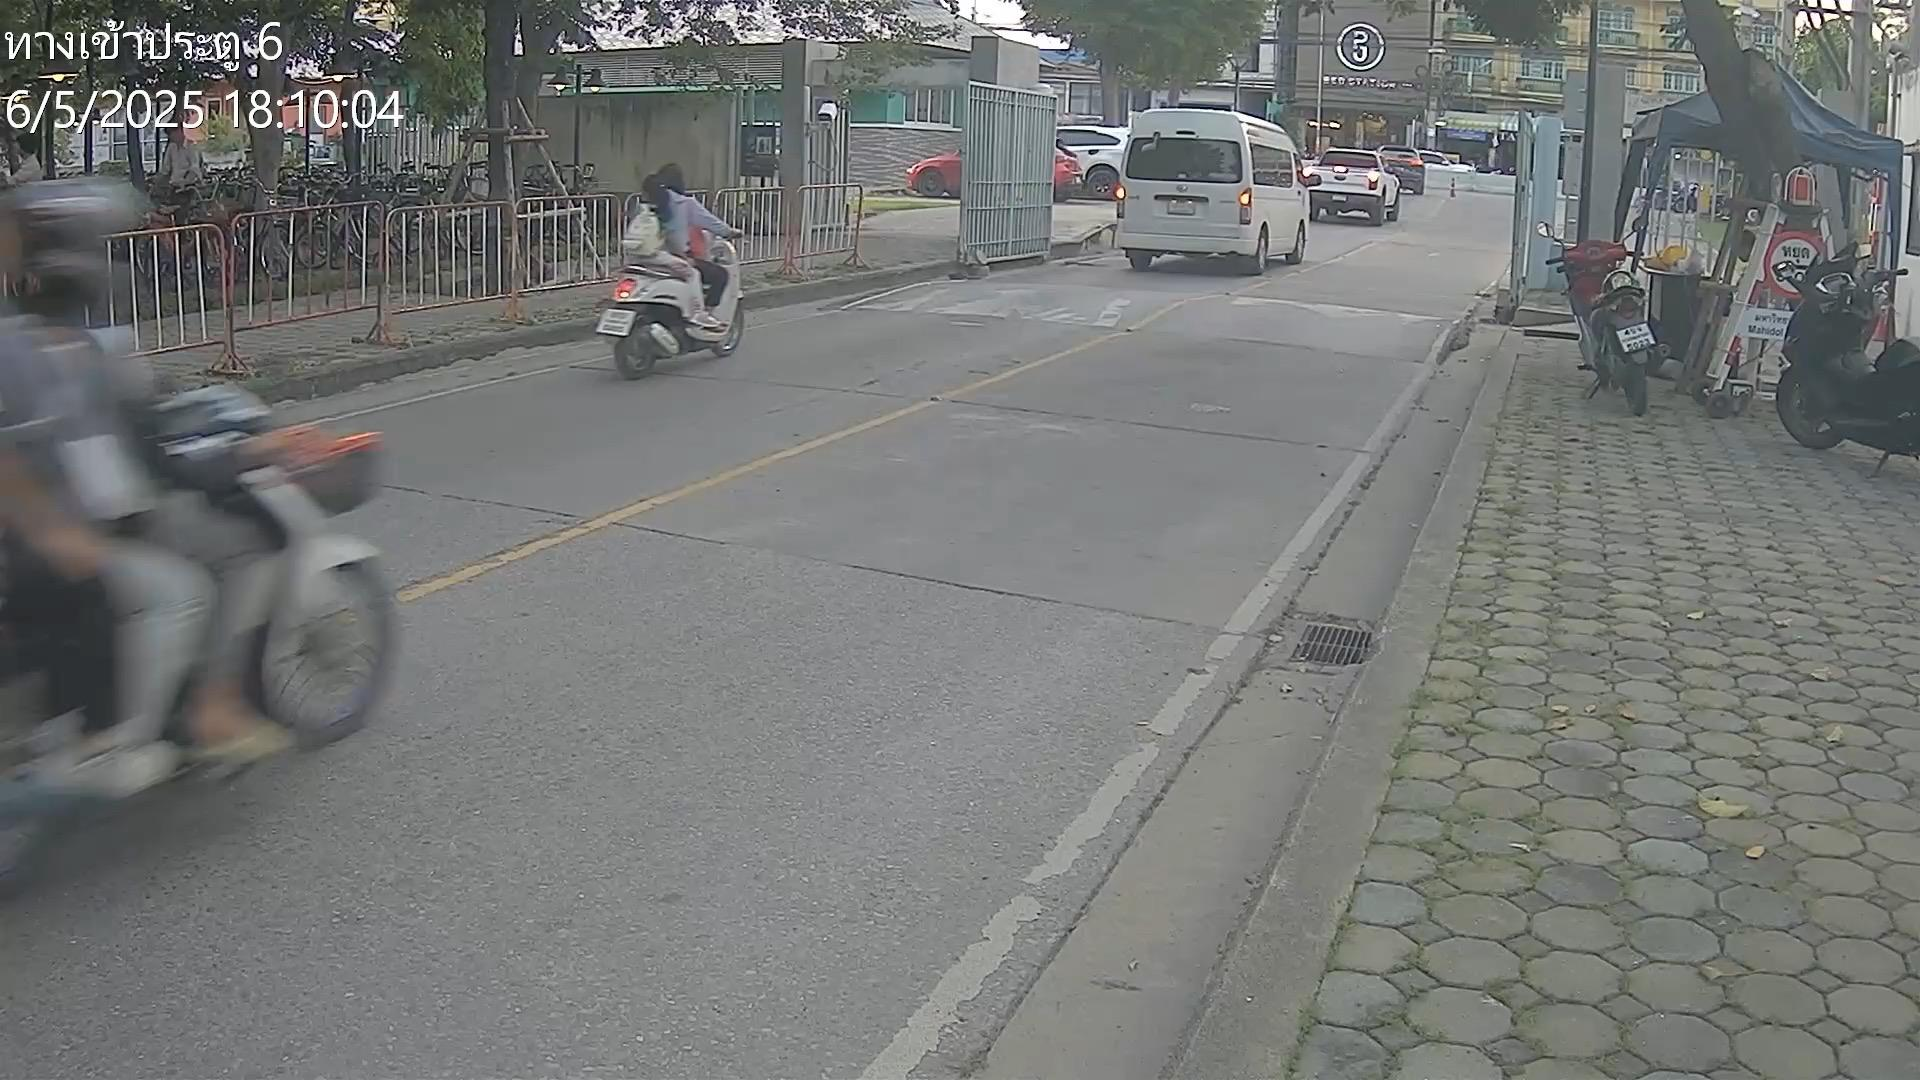With-Helmet: (9, 173, 149, 299)
